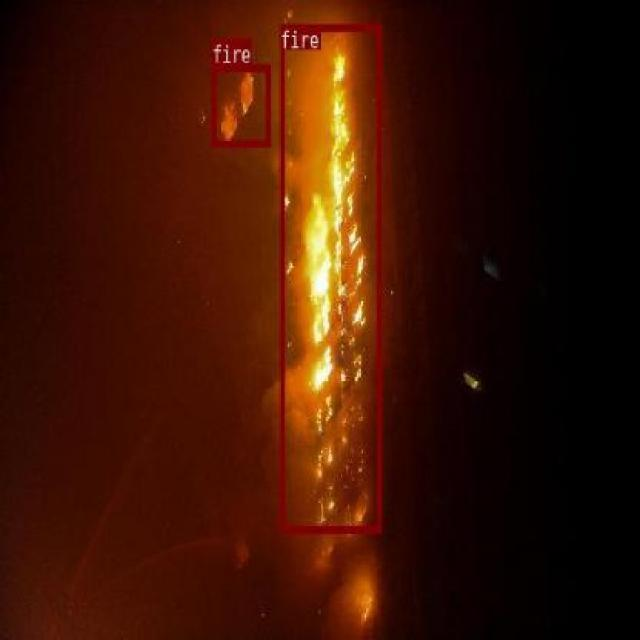Fire: (285, 26, 367, 556), (215, 78, 277, 144)
Smoke: (0, 0, 618, 640)
